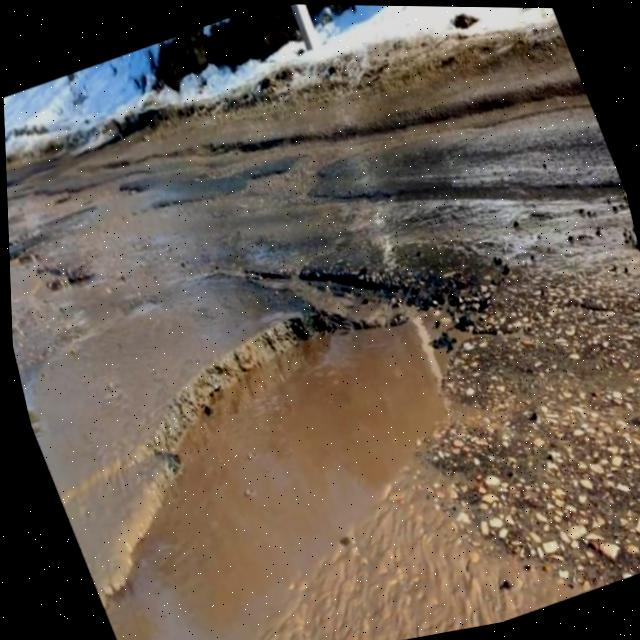Pothole: (7, 240, 556, 640), (23, 248, 103, 316)
